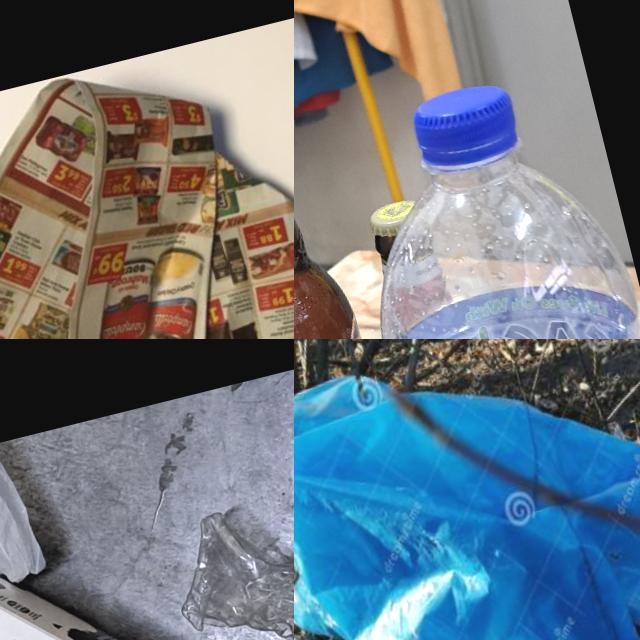caixinha: (0, 500, 294, 640)
garrafa de vidro: (294, 70, 423, 339), (339, 193, 513, 339)
garrafa plástica: (341, 130, 640, 339), (158, 452, 294, 640)
papel: (0, 14, 294, 339)
sacola plástica: (294, 339, 640, 640), (0, 438, 51, 623)
tampa plástica: (403, 77, 523, 172)
